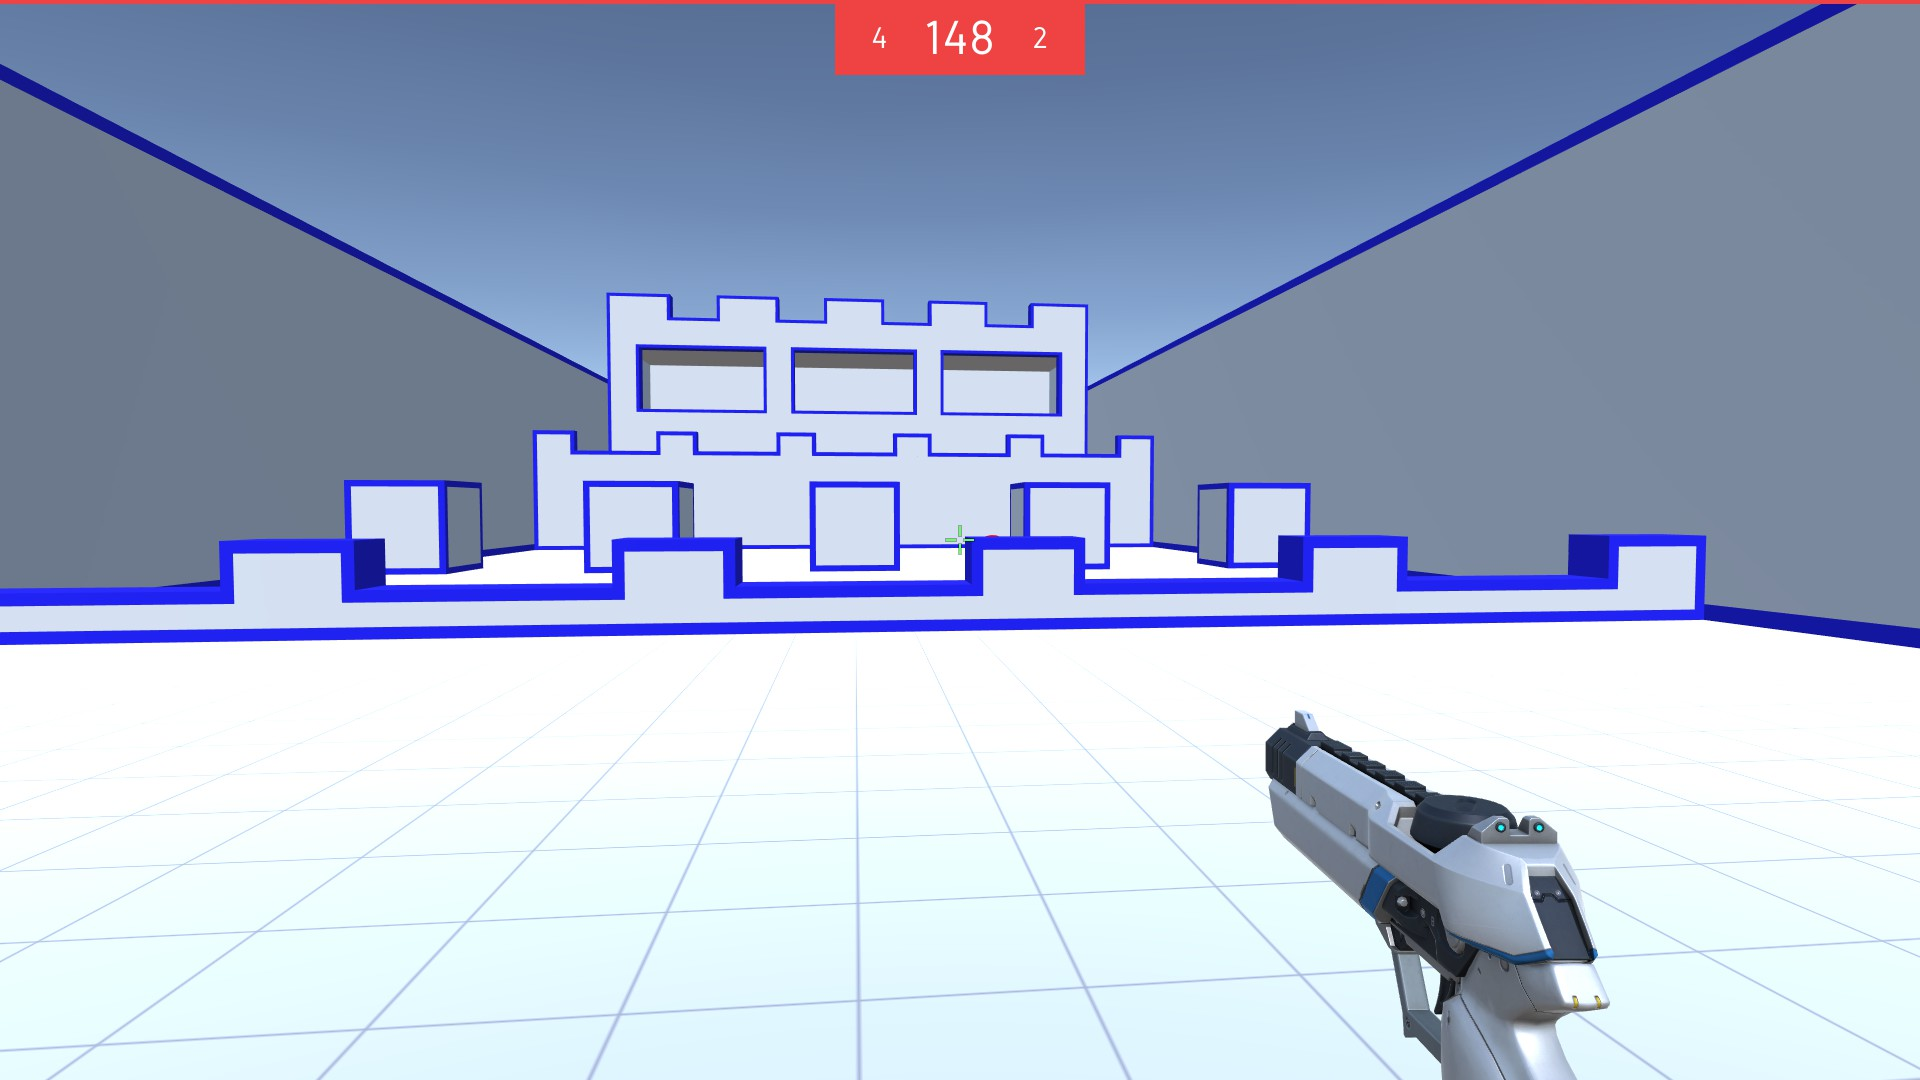target: (984, 531, 1004, 541)
